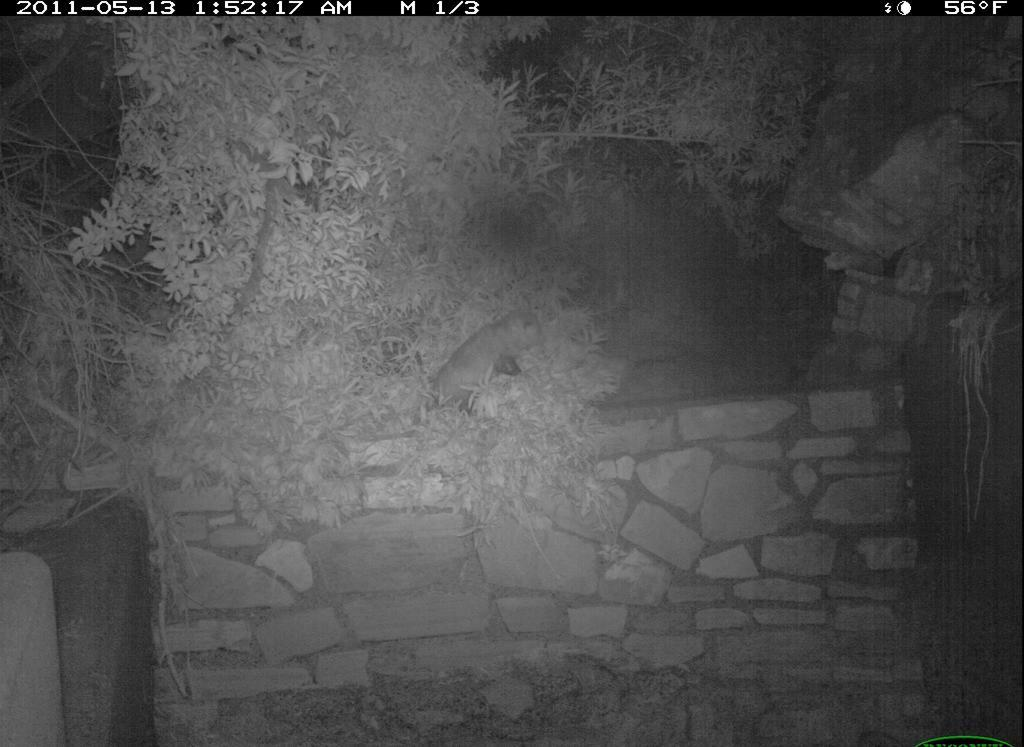opossum: (422, 308, 574, 424)
